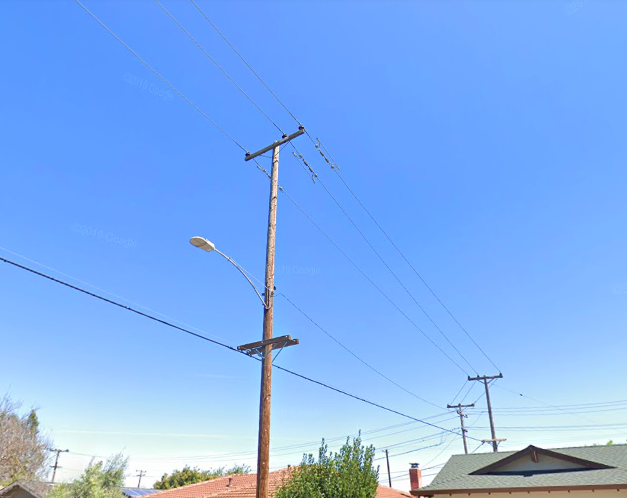utility_pole: (236, 116, 311, 174)
